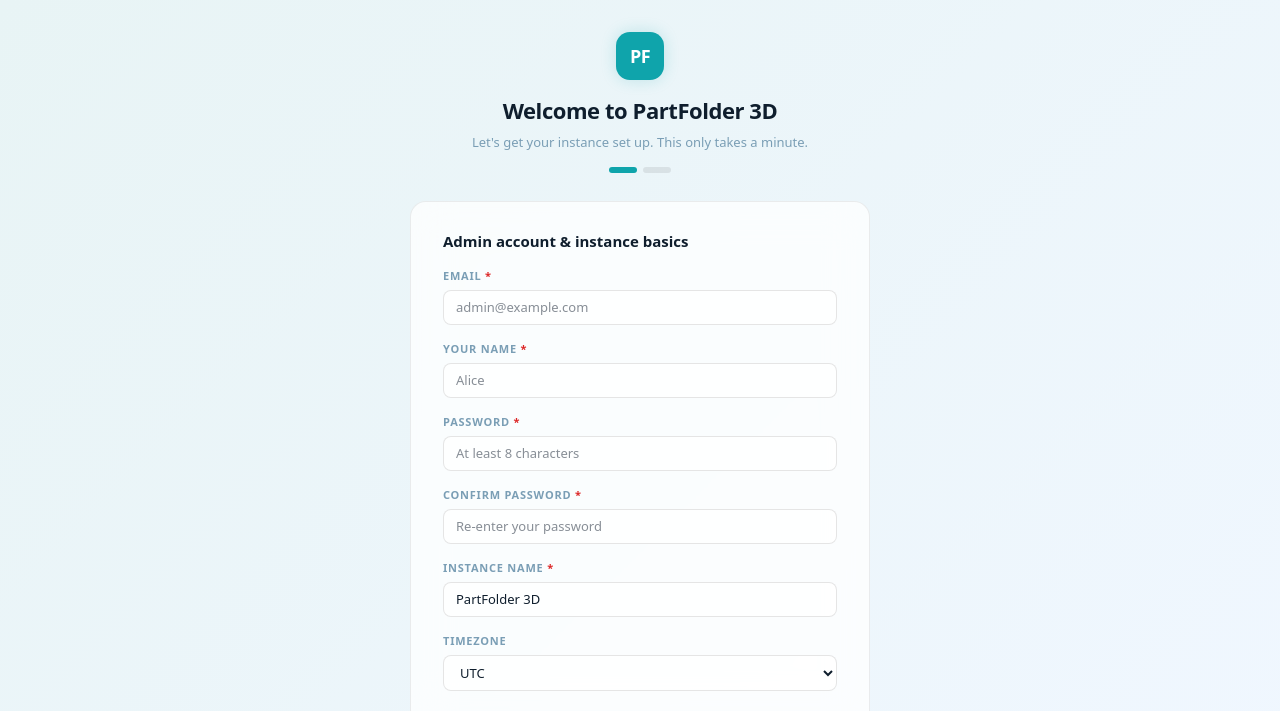
SetupPage confirm-password validation › shows "Passwords do not match" error when passwords differ
Type "admin@test.com" into the field labelled "Email *" at (640, 307), box top-left (443, 290), bottom-right (837, 325)
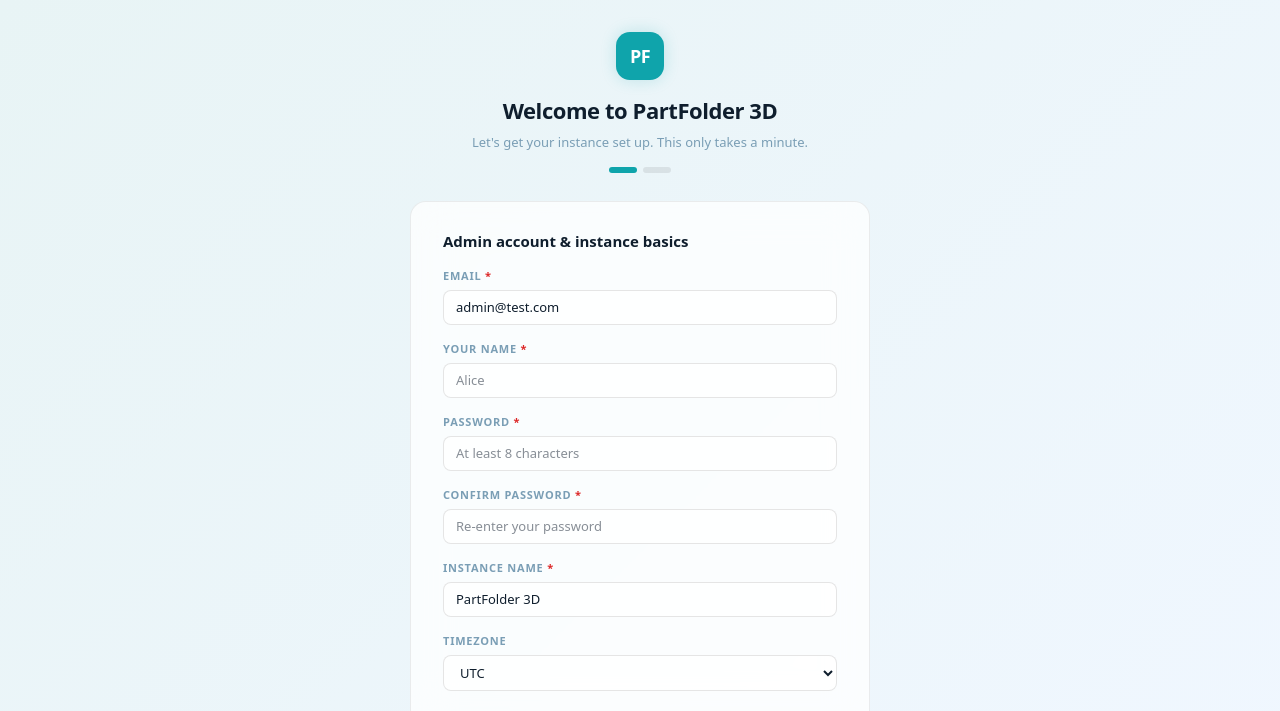
Type "Admin" into the field labelled "Your name *" at (640, 380), box top-left (443, 362), bottom-right (837, 398)
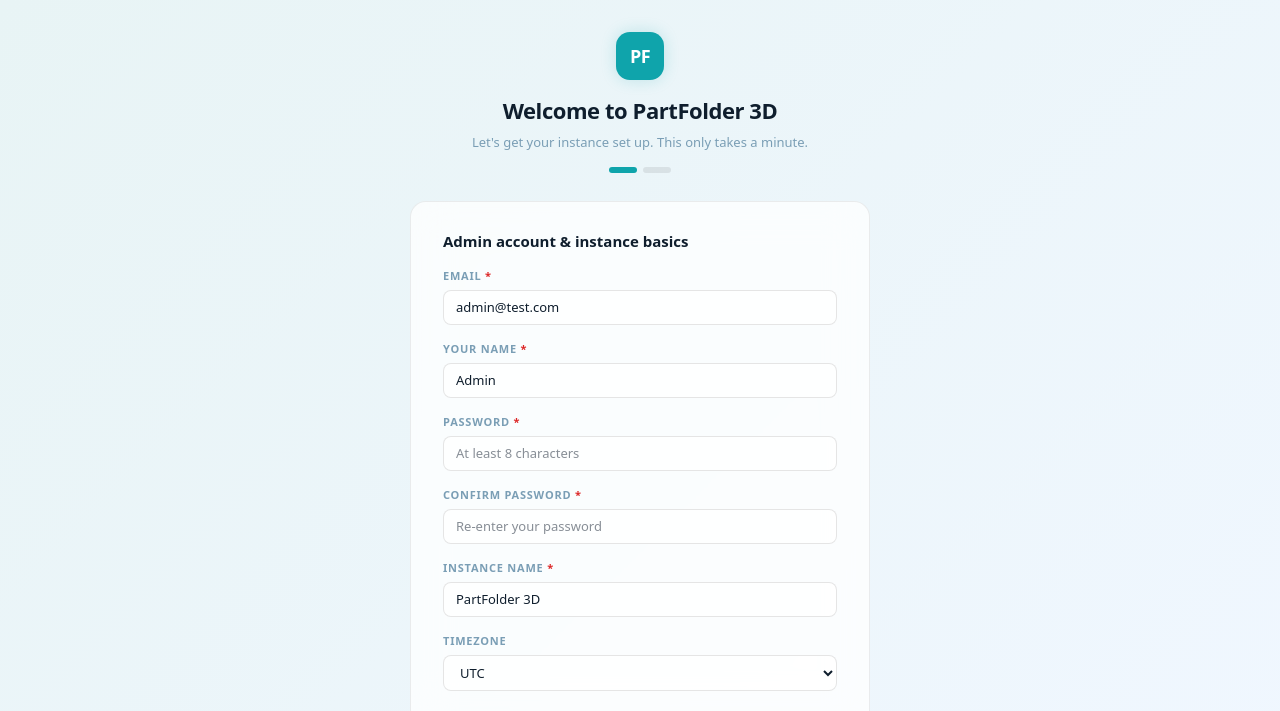
Type "hunter2correct" into the password field labelled "Password *" at (640, 453), box top-left (443, 436), bottom-right (837, 471)
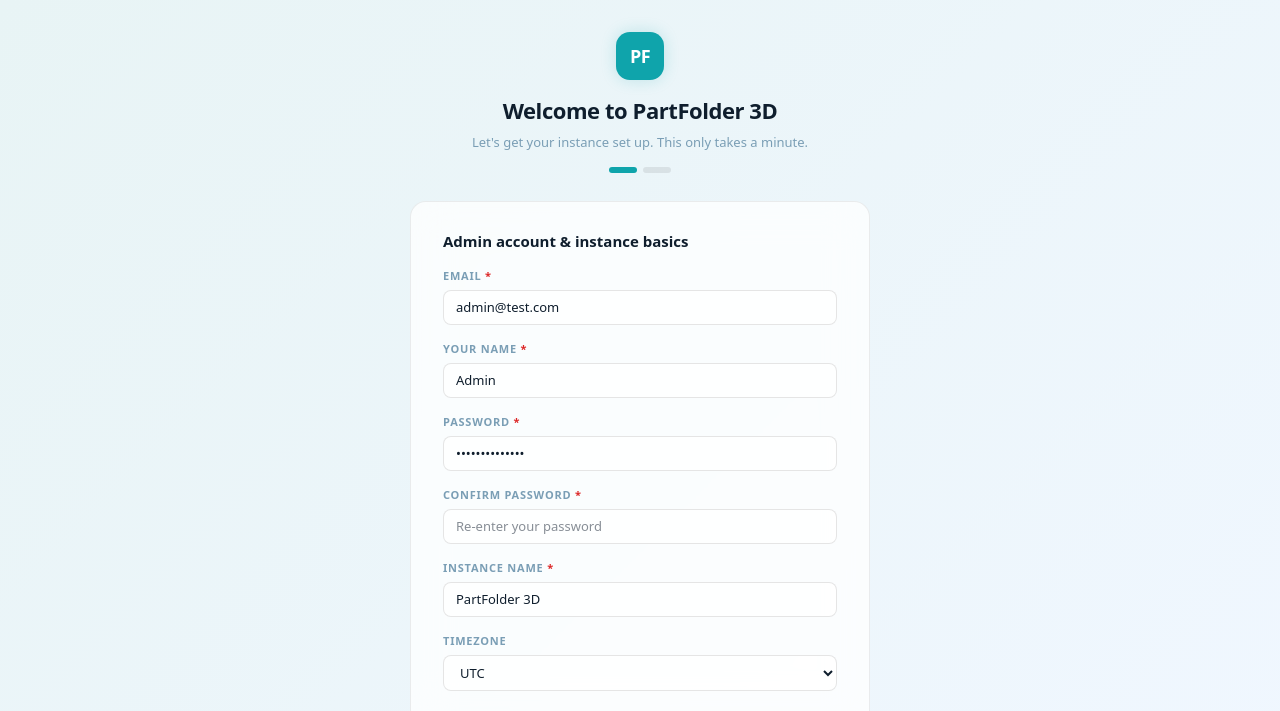
Type "differentpass" into the password field labelled "Confirm password *" at (640, 526), box top-left (443, 508), bottom-right (837, 544)
(page scrolled)
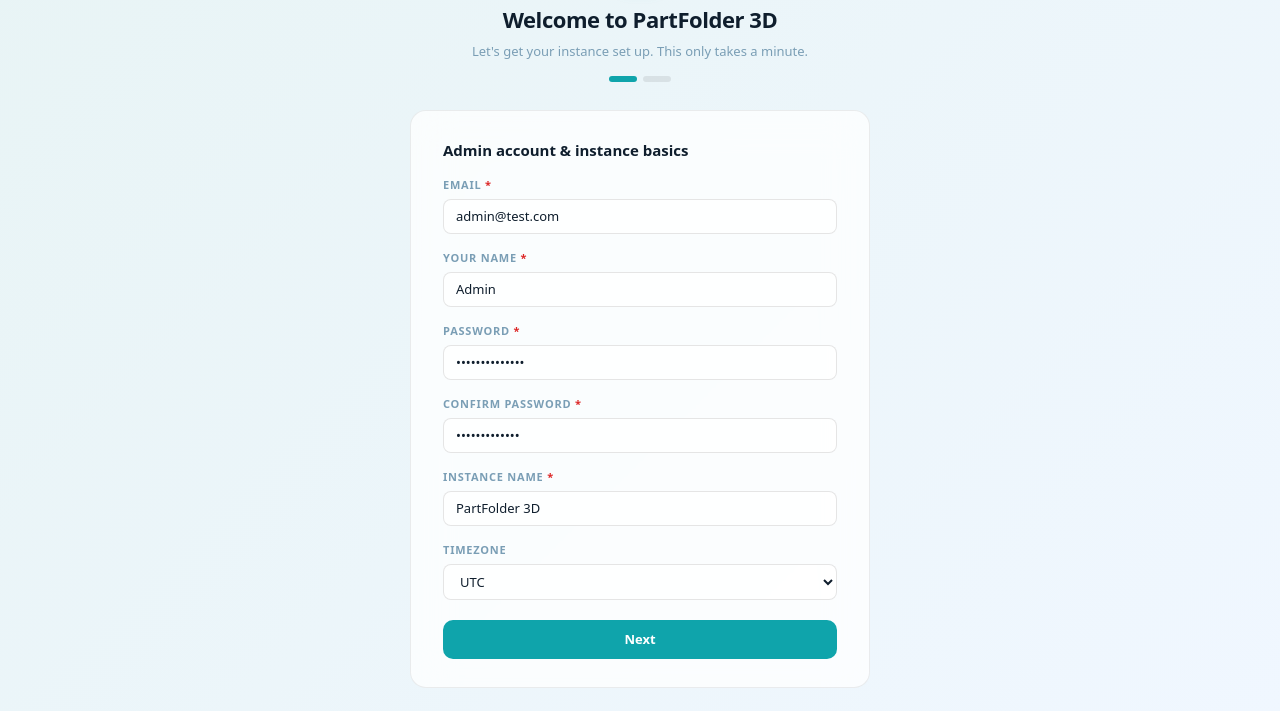
Click the button "Next" at (640, 639), box top-left (443, 620), bottom-right (837, 659)
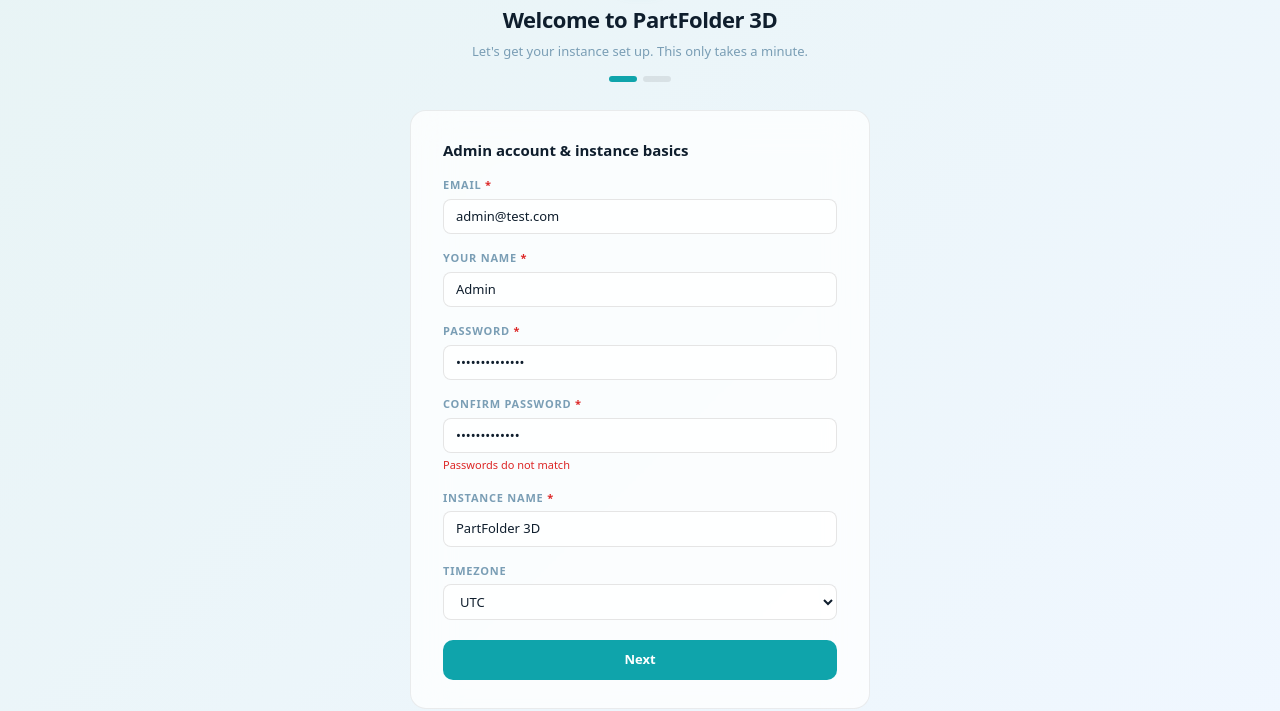
Now the text "Passwords do not match" is shown, box top-left (443, 457), bottom-right (570, 472)
